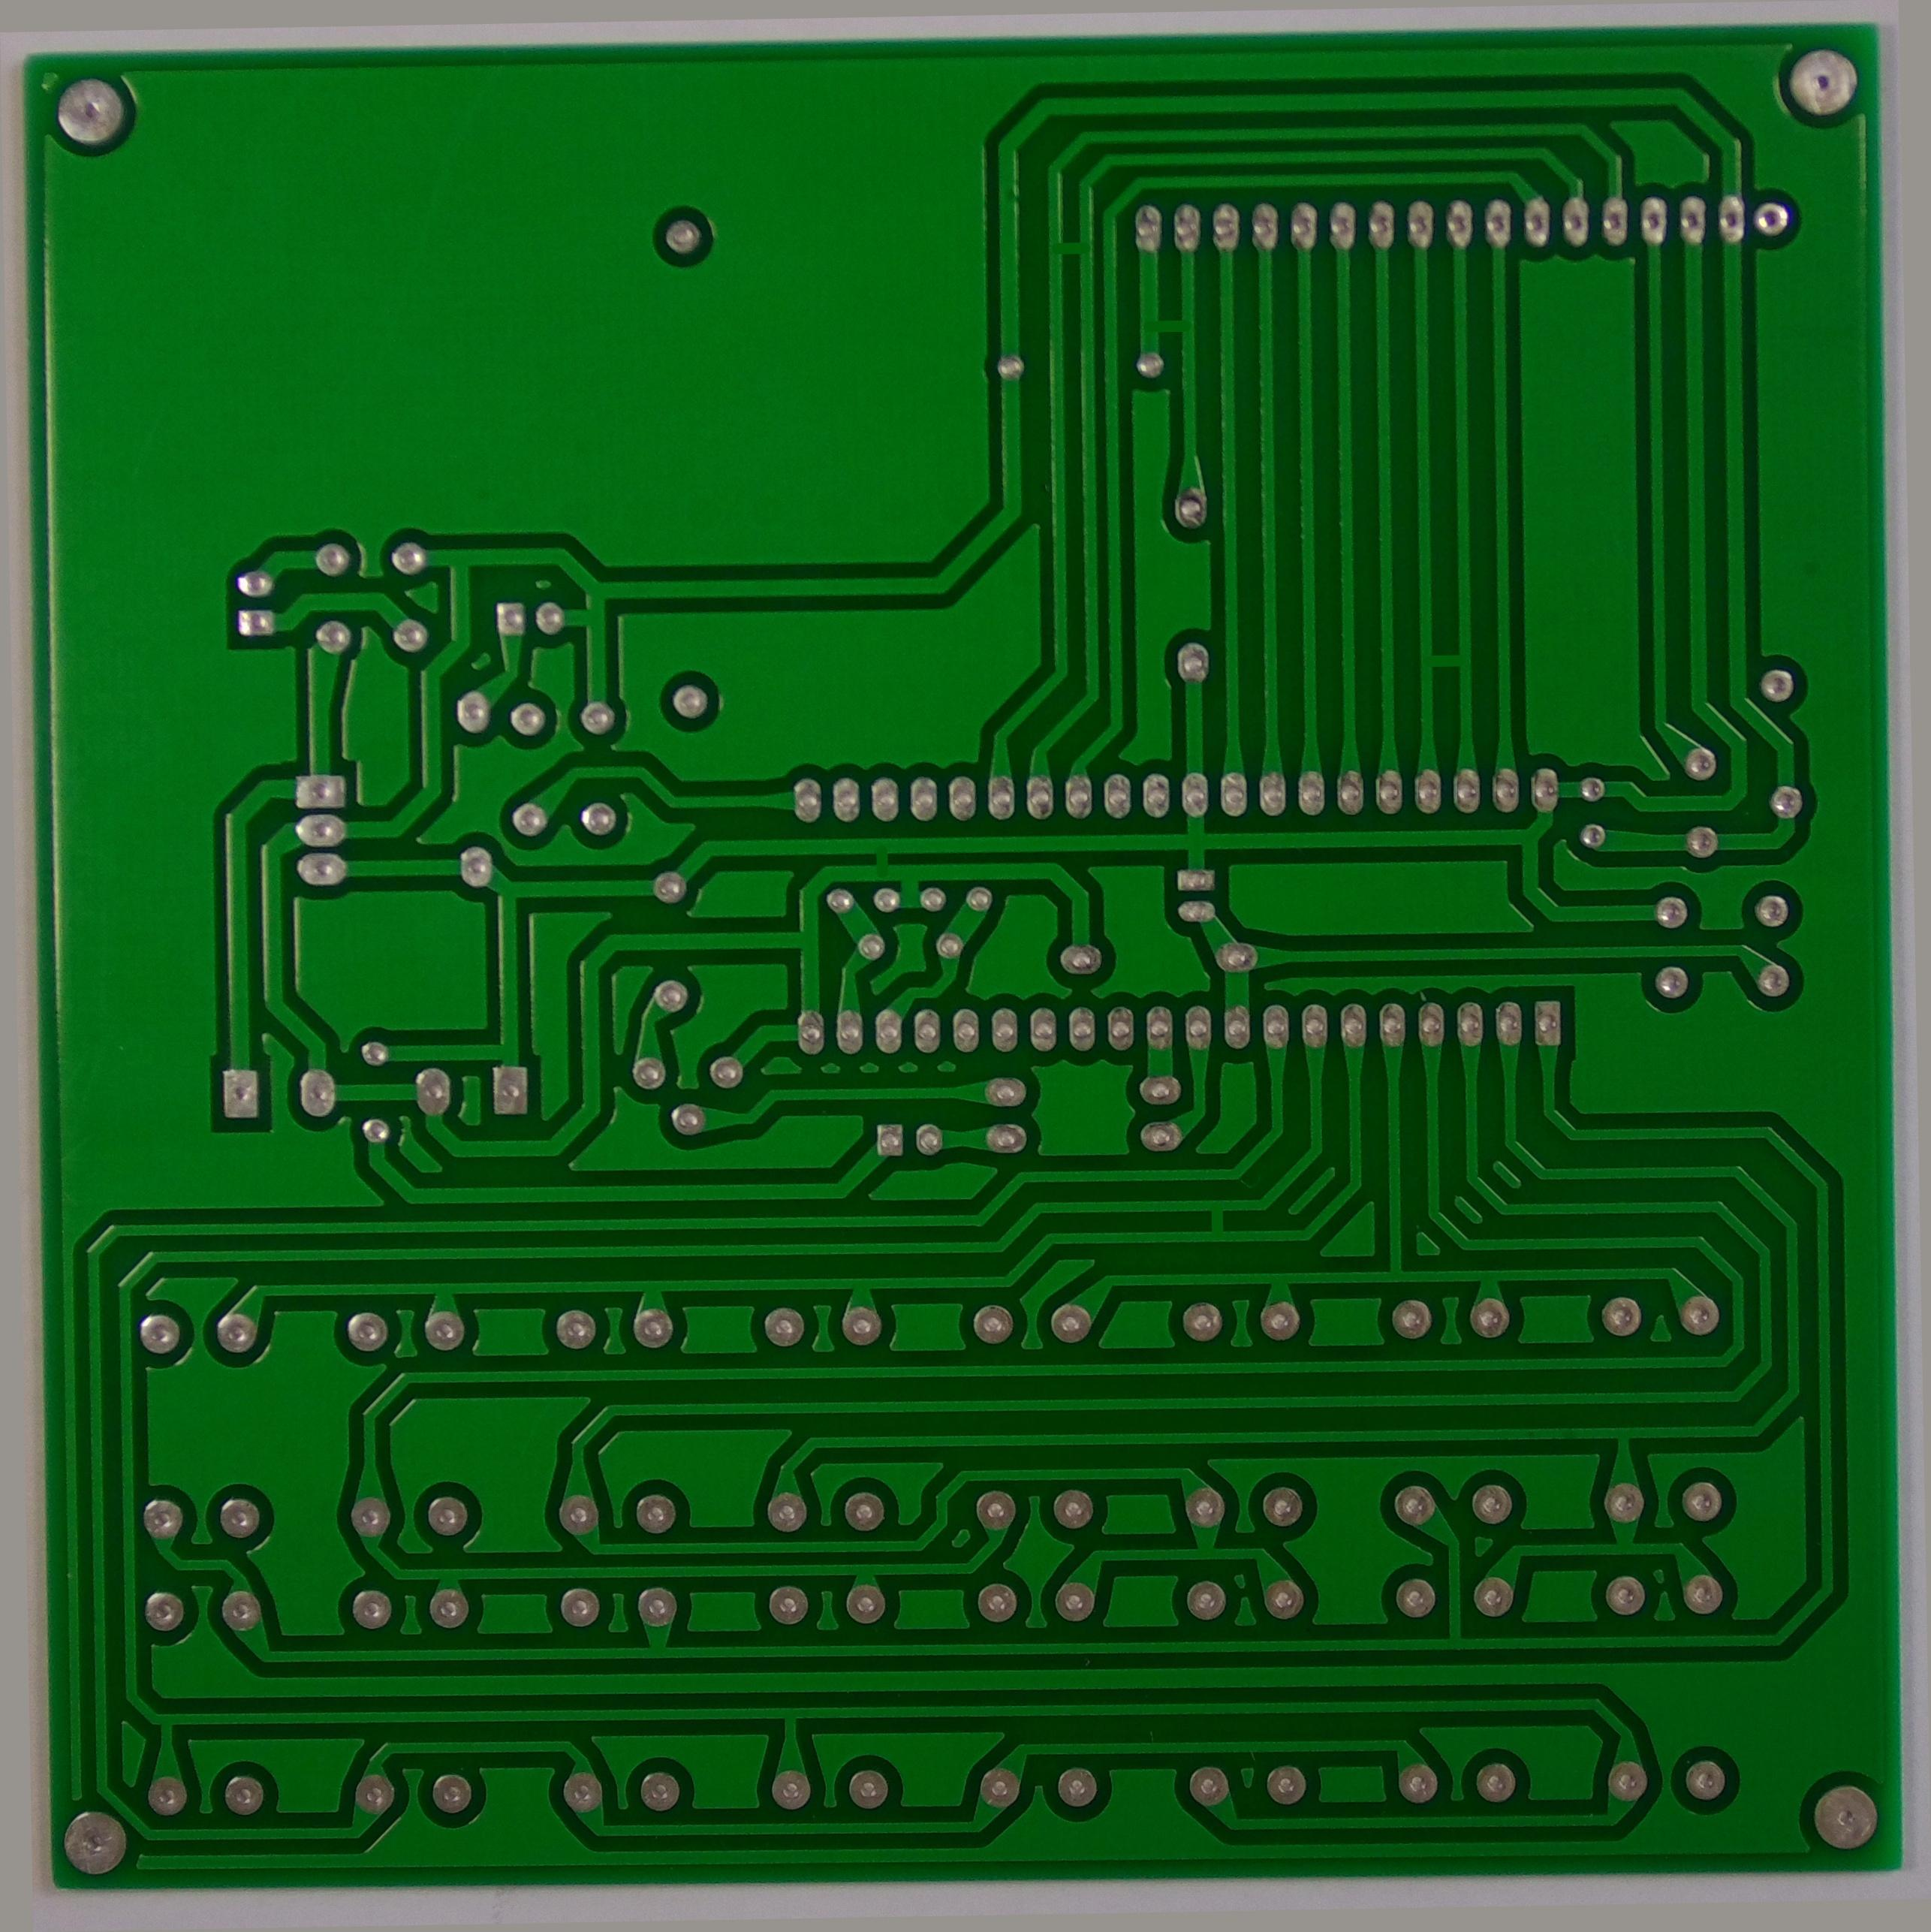short: (1420, 639, 1487, 688), (1050, 216, 1116, 262), (1149, 301, 1215, 345), (1188, 1203, 1238, 1256), (859, 823, 902, 879)
